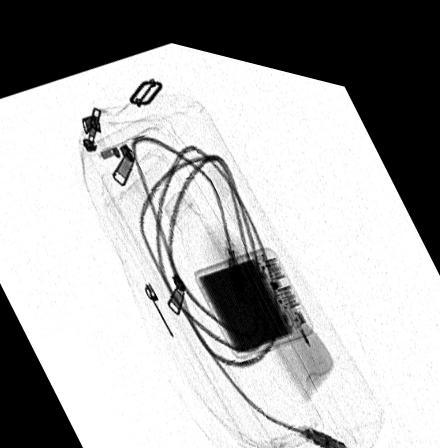Powerbank: (194, 230, 315, 345)
